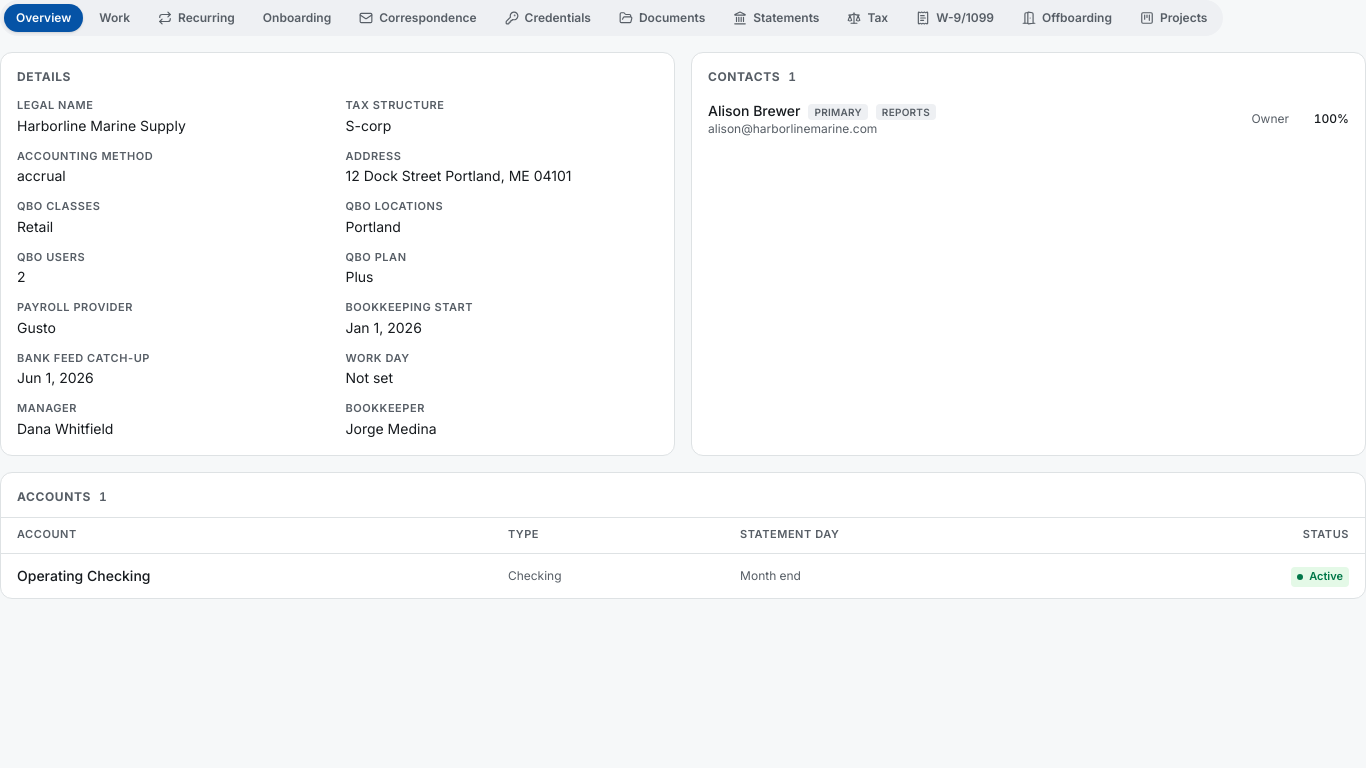
Test case: ClientDetailTabs content › renders the onboarding checklist with status chips
Click the tab "Onboarding".
click(297, 18)  # box [251,4,343,32]
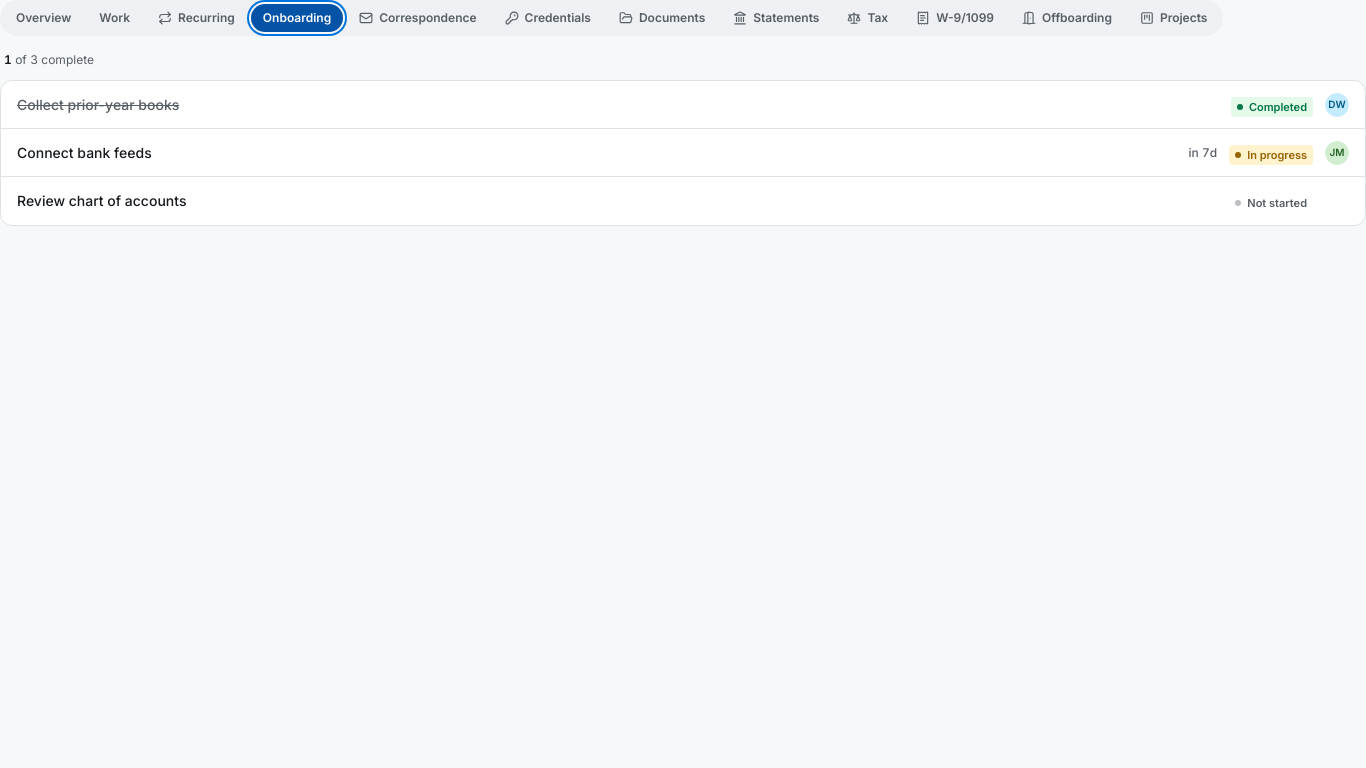
expect the number of elements with test id "onboarding-row" is 3: met, box [1,81,1365,129]; [1,129,1365,177]; [17,192,1307,210]
expect the text "Completed" is shown: met, box [1231,97,1313,117]
expect the text "In progress" is shown: met, box [1229,145,1313,165]
